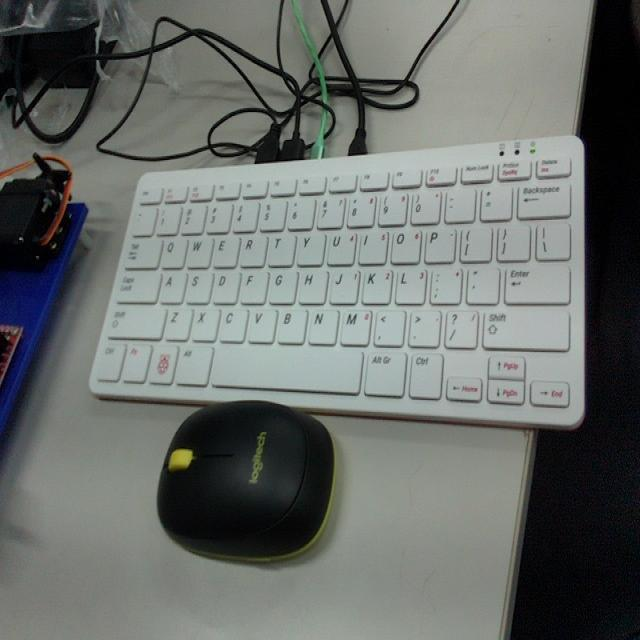keyboard: (91, 146, 578, 415)
